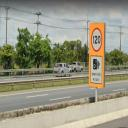speed_limit_120: (90, 26, 103, 53)
